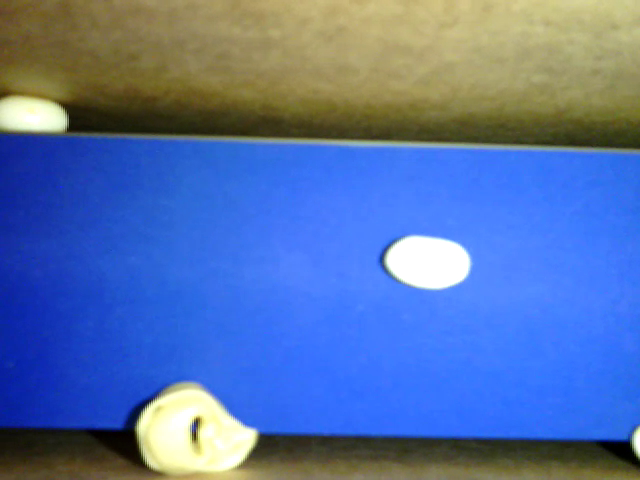tortellini: (138, 380, 258, 475)
